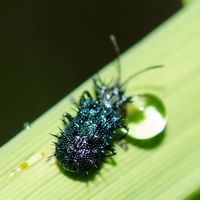insect: (52, 35, 166, 173)
